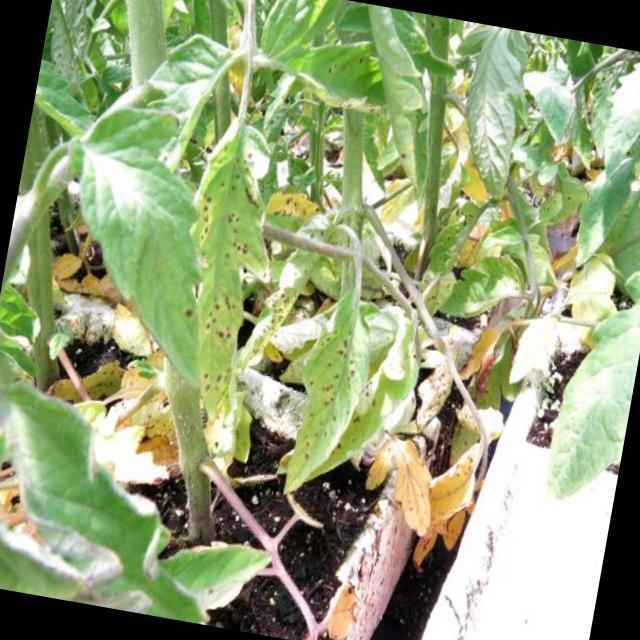Bacterial Spot: (158, 120, 291, 430), (278, 298, 386, 506), (258, 172, 328, 235)
